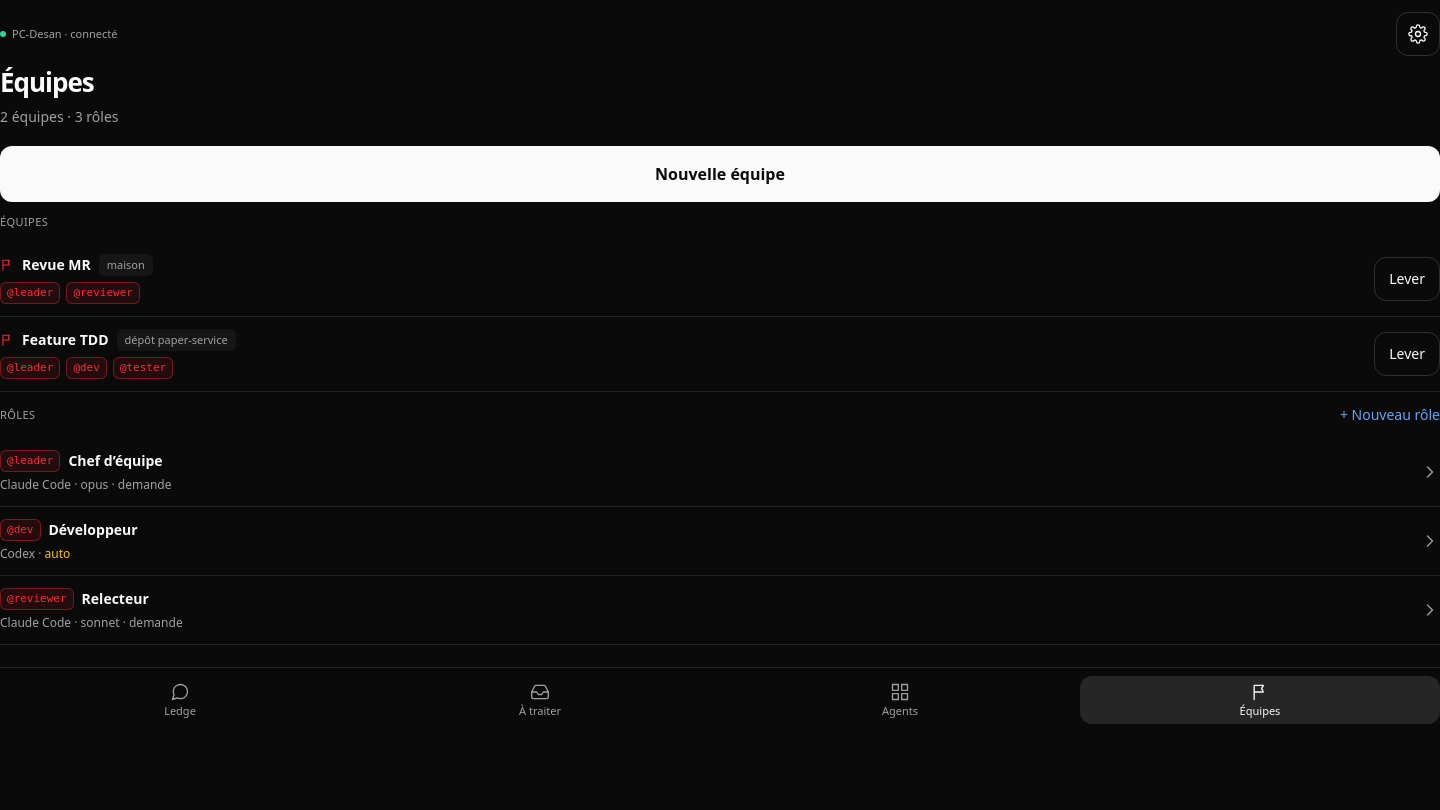
the Équipes tab › says a launch the device did not confirm as the chat card does: quietly when cancelled or expired, « Pas lancée. » otherwise
Click the button with aria-label "Lever Feature TDD" at (1407, 354), box [1374,332,1439,376]
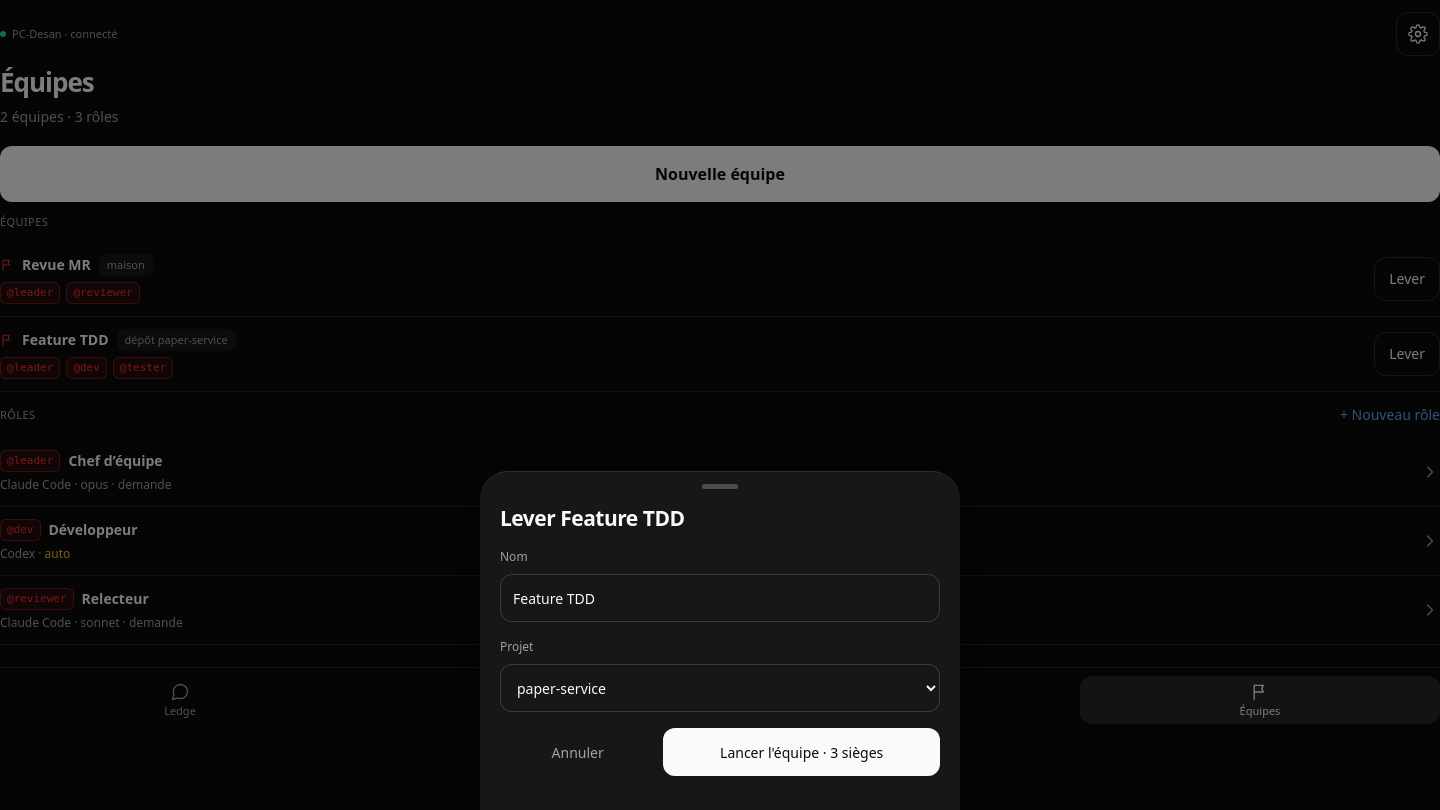
Click the button "Lancer l'équipe · 3 sièges" at (802, 752), box [663,728,940,776]
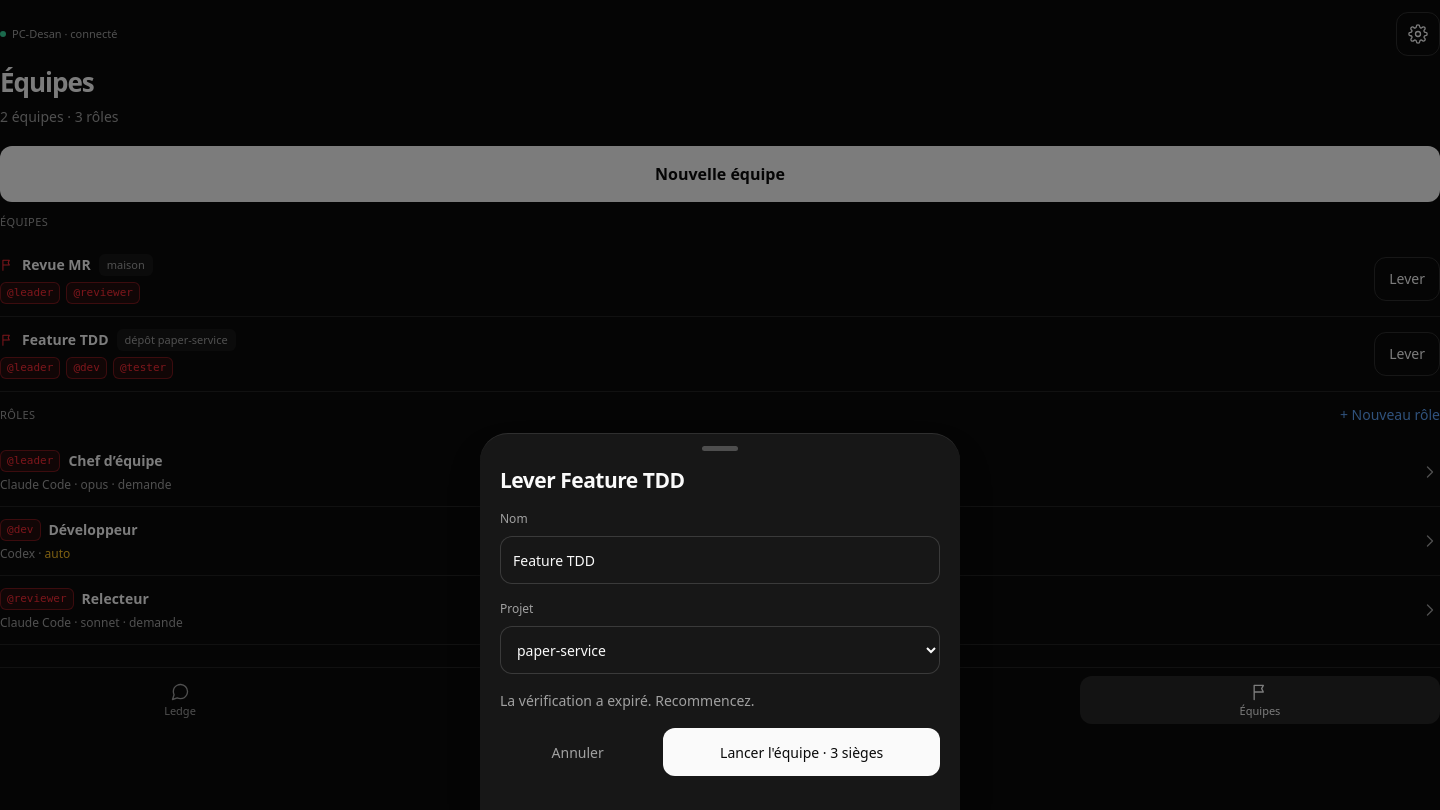
expect the message reads "La vérification a expiré. Recommencez.": met, box [500,691,754,710]
Click the button "Lancer l'équipe · 3 sièges" at (802, 752), box [663,728,940,776]
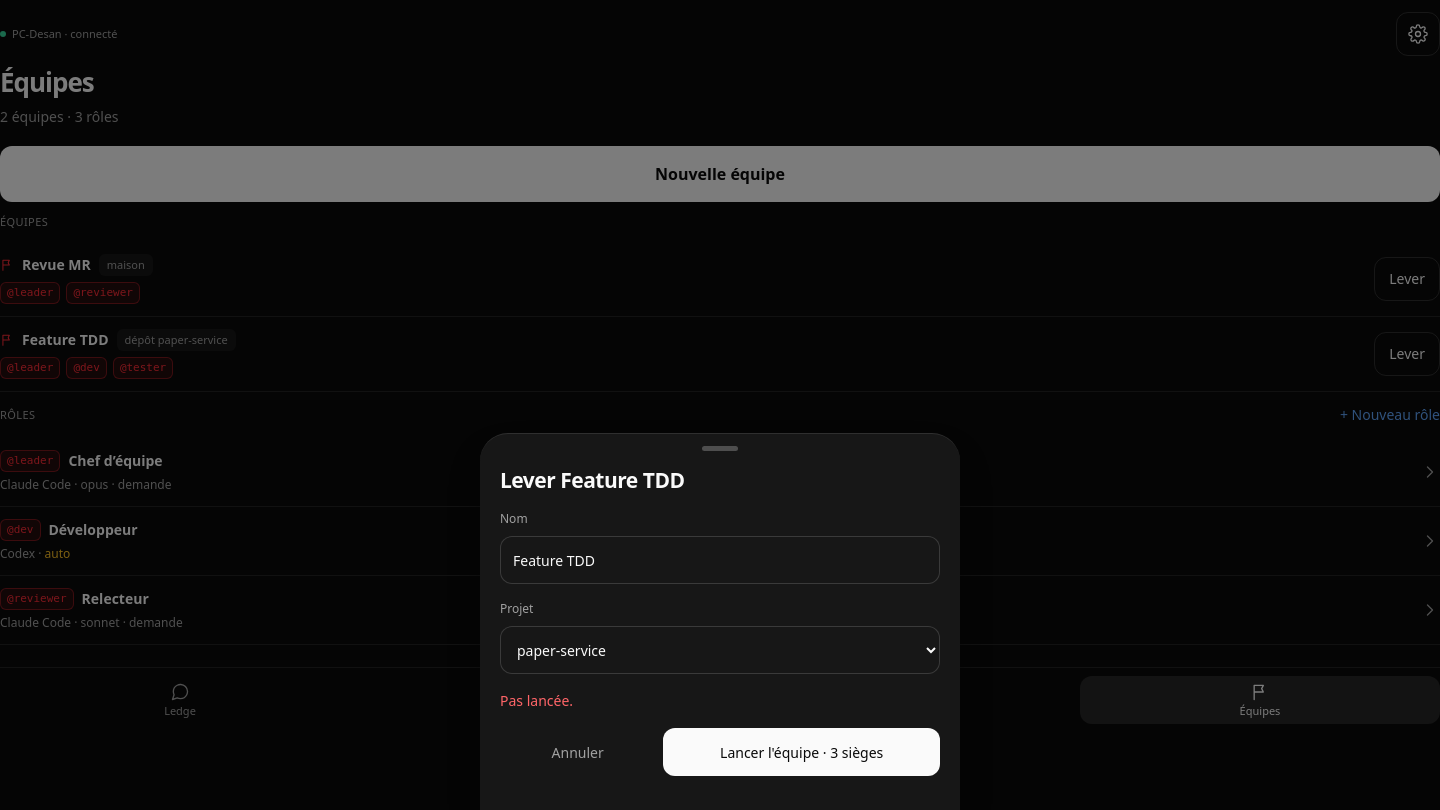
expect the message reads "Pas lancée.": met, box [500,691,573,710]
Click the button "Lancer l'équipe · 3 sièges" at (802, 752), box [663,728,940,776]
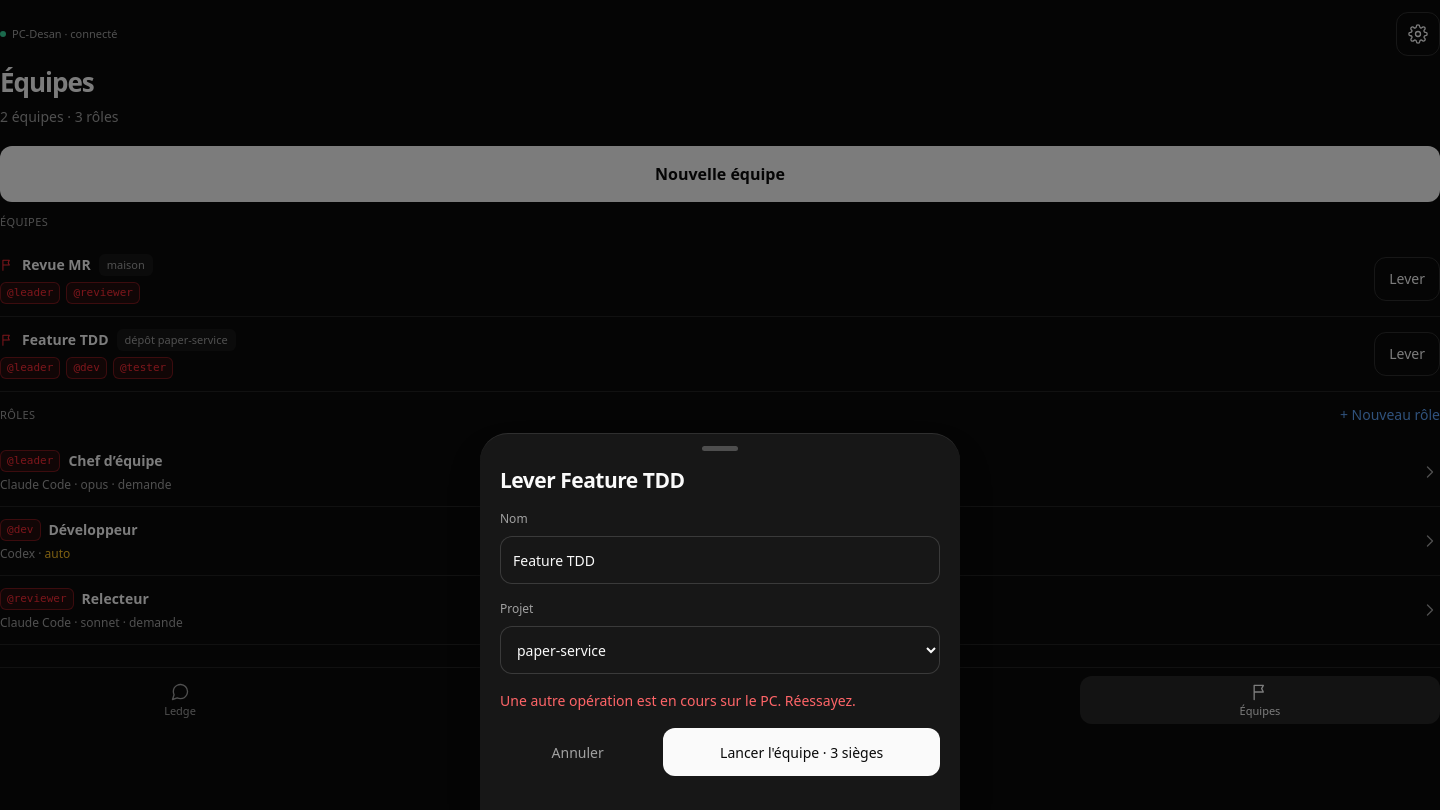
expect the message reads "Une autre opération est en cours sur le PC. Réessayez.": met, box [500,691,856,710]
